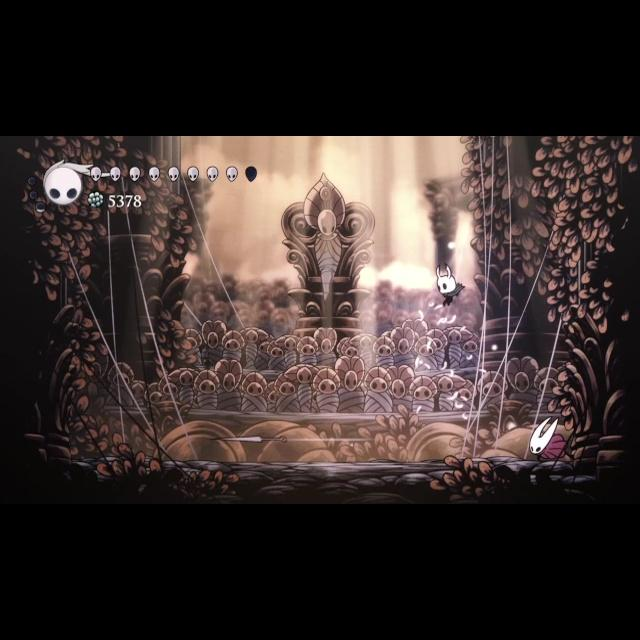Enemy: (522, 416, 576, 466)
NailAttack: (208, 430, 294, 452)
Player: (428, 260, 466, 310)
